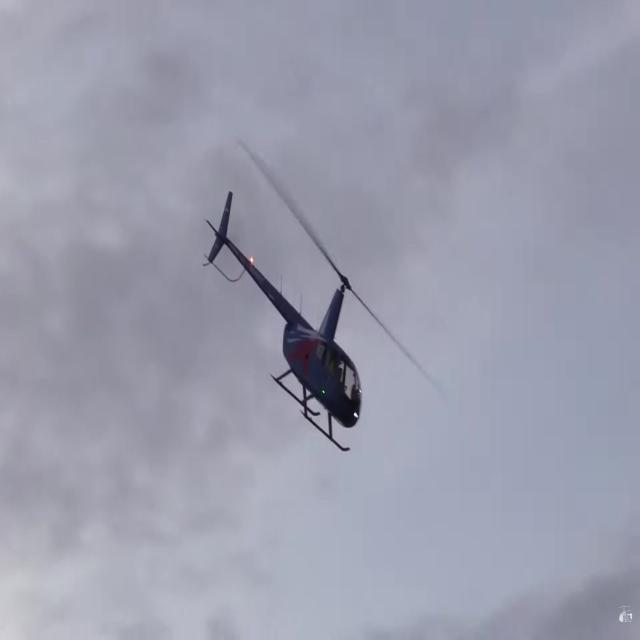CIV_HELO: (204, 187, 364, 451)
